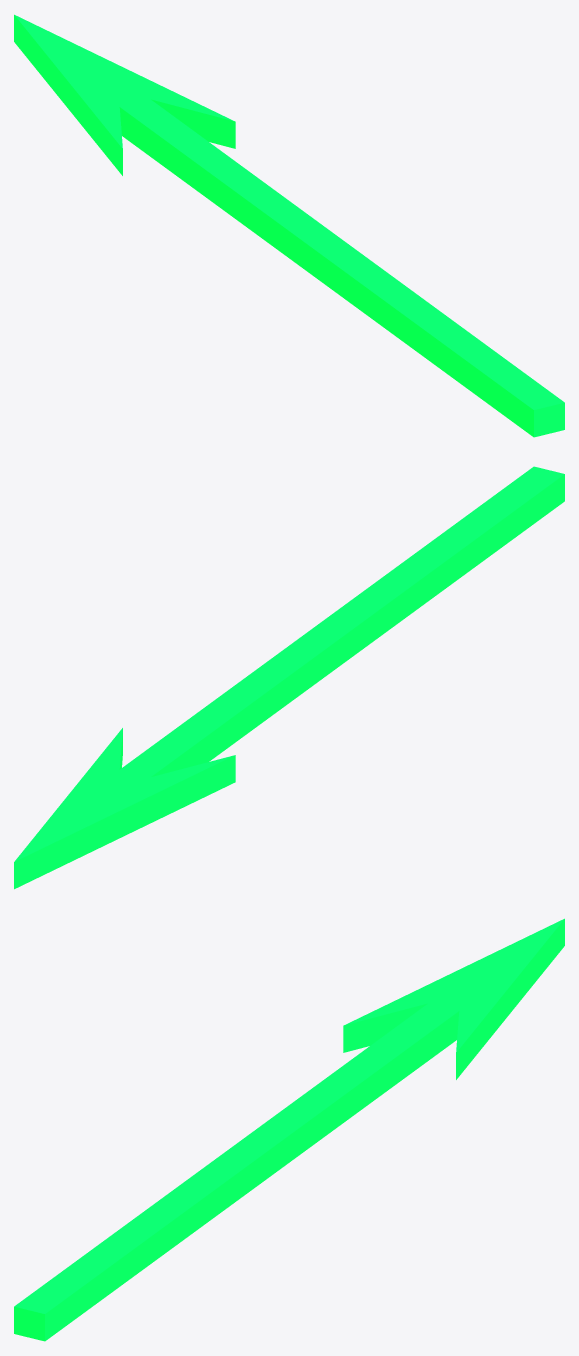
Rendered from arrow.fbx.
3 renders of one model, top to bottom at view 1: azimuth 30°, elevation 25°; view 2: azimuth 150°, elevation 25°; view 3: azimuth 330°, elevation 25°, orthographic.
Parts seen in each view (by area): view 1: Cube; view 2: Cube; view 3: Cube.
Part boxes in pixels (<box>): Cube: <box>14,14,564,437</box>; Cube: <box>14,466,564,889</box>; Cube: <box>14,918,564,1341</box>.
Size of the model in its own units: 192 by 44.43 by 1578.
